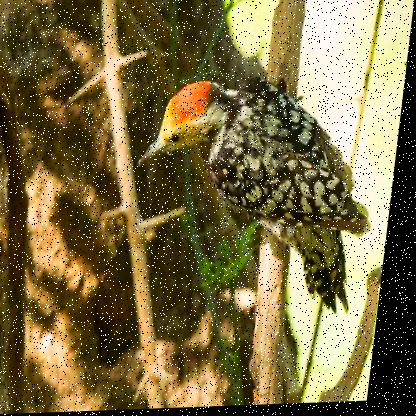Burung: (129, 75, 392, 322)
